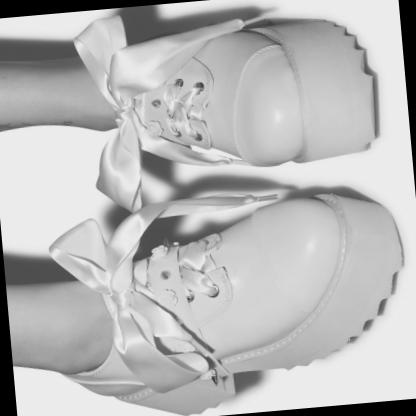ankle: (117, 353, 128, 362), (140, 81, 149, 88)
heel: (125, 394, 136, 402), (211, 35, 218, 42)
left_foot: (102, 14, 382, 181)
pinky: (304, 278, 317, 293), (272, 67, 283, 79)
right_foot: (47, 186, 414, 416)
toe: (292, 203, 309, 214), (279, 145, 292, 158)
